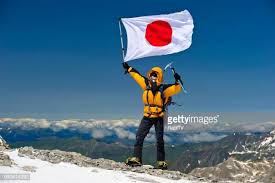Japanese Flag: (118, 10, 196, 64)
